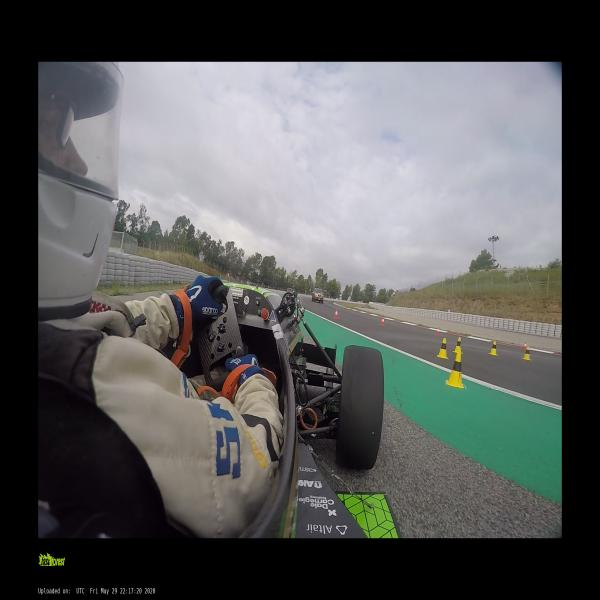orange_cone: (333, 310, 338, 319), (380, 317, 385, 326), (435, 328, 440, 336), (522, 341, 526, 350)
yellow_cone: (446, 353, 465, 389), (437, 338, 448, 359), (452, 337, 463, 354), (521, 346, 532, 361), (488, 340, 498, 355)
